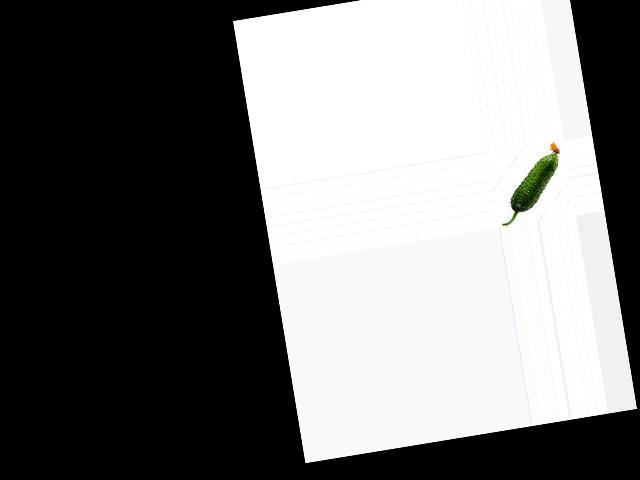cucumber: (490, 141, 570, 225)
